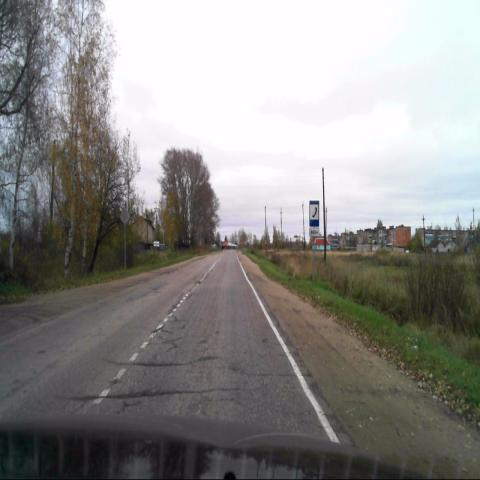7_6: (309, 200, 319, 227)
